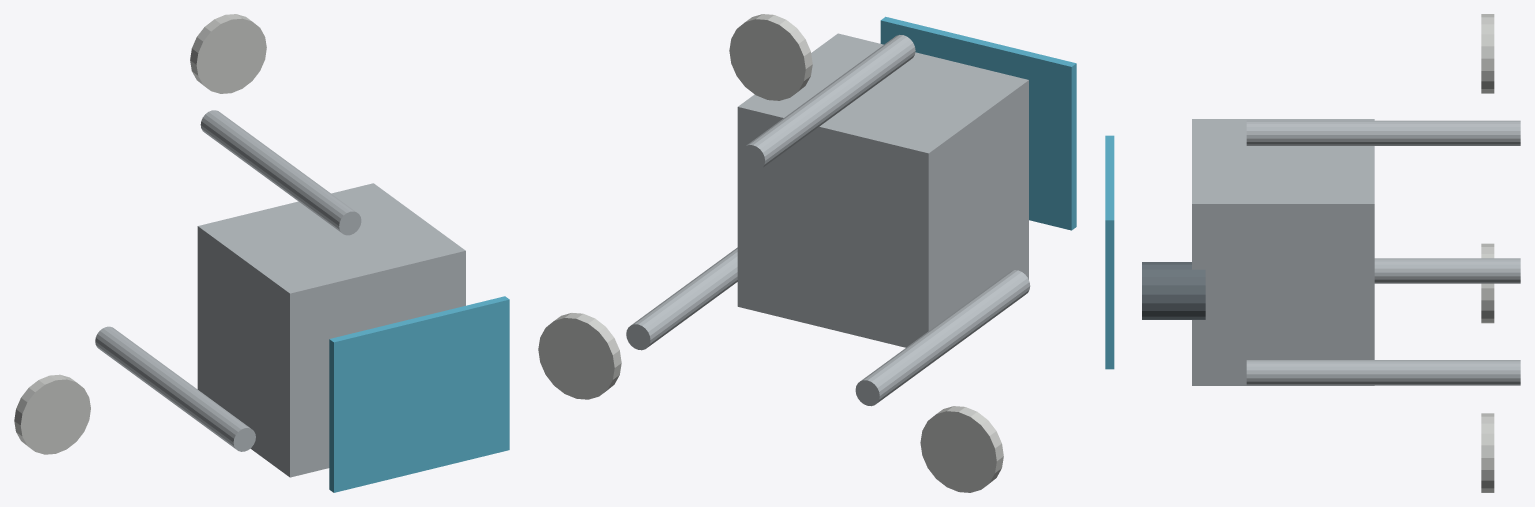
File: surveyor7.glb
3 renders of one model, left to right at view 1: azimuth 30°, elevation 25°; view 2: azimuth 150°, elevation 25°; view 3: azimuth 270°, elevation 25°, orthographic. The views are drawn at different scales.
Parts seen in each view (by area): view 1: central_body, solar_array, landing_leg_0, landing_leg_2, footpad_2, footpad_0; view 2: central_body, solar_array, landing_leg_0, landing_leg_2, footpad_0, footpad_2, footpad_1, landing_leg_1; view 3: central_body, landing_leg_1, landing_leg_2, landing_leg_0, camera, solar_array, footpad_1, footpad_2, footpad_0.
Part boxes in pixels (box(x1,y1,x2,y2)): central_body: box(197, 183, 465, 477); solar_array: box(329, 296, 509, 492); landing_leg_0: box(95, 326, 255, 451); landing_leg_2: box(200, 110, 361, 235); footpad_2: box(190, 14, 266, 93); footpad_0: box(14, 374, 90, 454); central_body: box(737, 33, 1028, 347); solar_array: box(880, 16, 1076, 230); landing_leg_0: box(855, 270, 1030, 406); landing_leg_2: box(741, 35, 915, 170); footpad_0: box(920, 406, 1003, 492); footpad_2: box(729, 14, 812, 100); footpad_1: box(538, 313, 621, 399); landing_leg_1: box(626, 247, 737, 350); central_body: box(1192, 119, 1374, 385); landing_leg_1: box(1246, 360, 1520, 385); landing_leg_2: box(1246, 120, 1520, 145); landing_leg_0: box(1374, 258, 1520, 283); camera: box(1142, 262, 1205, 319); solar_array: box(1105, 135, 1114, 369); footpad_1: box(1481, 413, 1494, 492); footpad_2: box(1481, 14, 1494, 93); footpad_0: box(1481, 243, 1494, 323).
Bounding box in the file's own units: 2.64 × 2.34 × 2.27.
